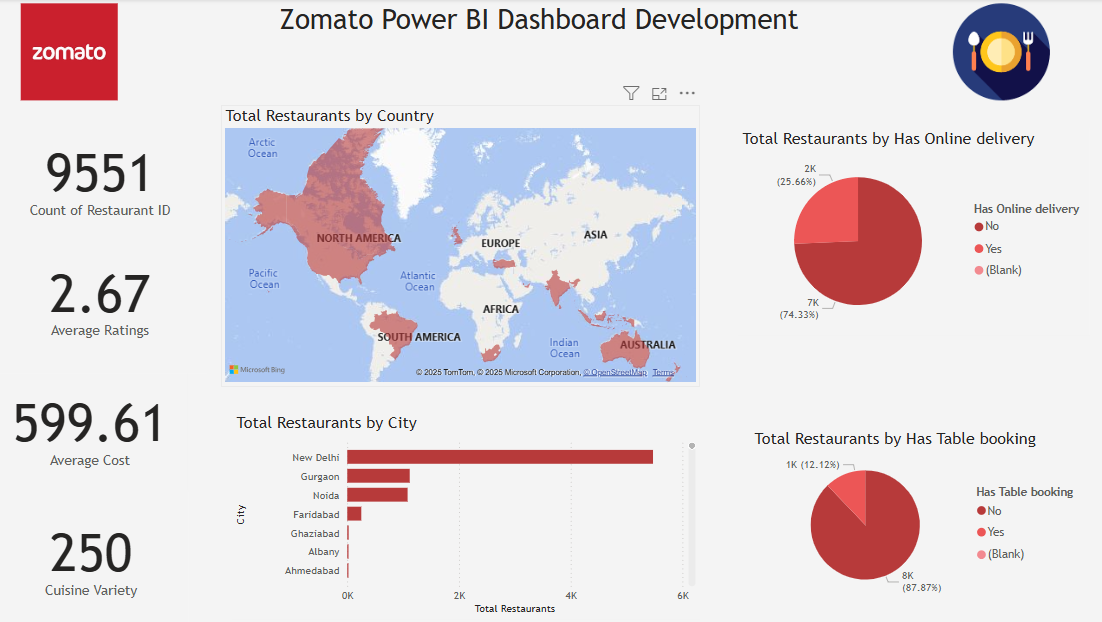

This screenshot's page, from the dashboard's own definition file:
{"tool":"powerbi","page":{"name":"Page 1","canvas":[1280,720],"ordinal":0},"visuals":[{"type":"card","fields":{"Values":["CountNonNull(KPIs.Restaurant ID)"]},"box":[0,122.1,246.7,165.8],"z":0},{"type":"card","fields":{"Values":["KPIs.Average Cost"]},"box":[0,421.5,223.6,145.2],"z":1},{"type":"card","fields":{"Values":["Cuisines.Cuisine Variety"]},"box":[0,569.3,226.2,150.4],"z":2},{"type":"card","fields":{"Values":["KPIs.Average Ratings"]},"box":[0,255.7,246.7,176.1],"z":3},{"type":"filledMap","fields":{"Category":["Country Master.Country"]},"box":[263.5,122.1,552.6,325.1],"z":4},{"type":"clusteredBarChart","fields":{"Y":["Restaurant.Total Restaurants"],"Category":["Restaurant.City"]},"box":[276.3,476.8,539.8,239],"z":7},{"type":"pieChart","fields":{"Category":["KPIs.Has Online delivery"],"Y":["Restaurant.Total Restaurants"]},"box":[859.8,149.1,406.1,239],"z":8},{"type":"pieChart","fields":{"Category":["KPIs.Has Table booking"],"Y":["Restaurant.Total Restaurants"]},"box":[873.9,494.8,392,201.8],"z":9},{"type":"image","box":[0,0,176.1,122.1],"z":10},{"type":"textbox","box":[302,0,655.4,61.7],"z":11},{"type":"image","box":[1046.1,0,233.9,122.1],"z":12}]}

Visuals, with their boxes in screenshot pixels (x1, y1, x2, y2), scaled from the page's 1280x720 canvas onto the 1102x622 screenshot:
card - CountNonNull(KPIs.Restaurant ID): x1=0 y1=105 x2=212 y2=249
card - KPIs.Average Cost: x1=0 y1=364 x2=193 y2=490
card - Cuisines.Cuisine Variety: x1=0 y1=492 x2=195 y2=621
card - KPIs.Average Ratings: x1=0 y1=221 x2=212 y2=373
filledMap - Country Master.Country: x1=227 y1=105 x2=703 y2=386
clusteredBarChart - Restaurant.Total Restaurants x Restaurant.City: x1=238 y1=412 x2=703 y2=618
pieChart - KPIs.Has Online delivery x Restaurant.Total Restaurants: x1=740 y1=129 x2=1090 y2=335
pieChart - KPIs.Has Table booking x Restaurant.Total Restaurants: x1=752 y1=427 x2=1090 y2=602
image: x1=0 y1=0 x2=152 y2=105
textbox: x1=260 y1=0 x2=824 y2=53
image: x1=901 y1=0 x2=1101 y2=105
